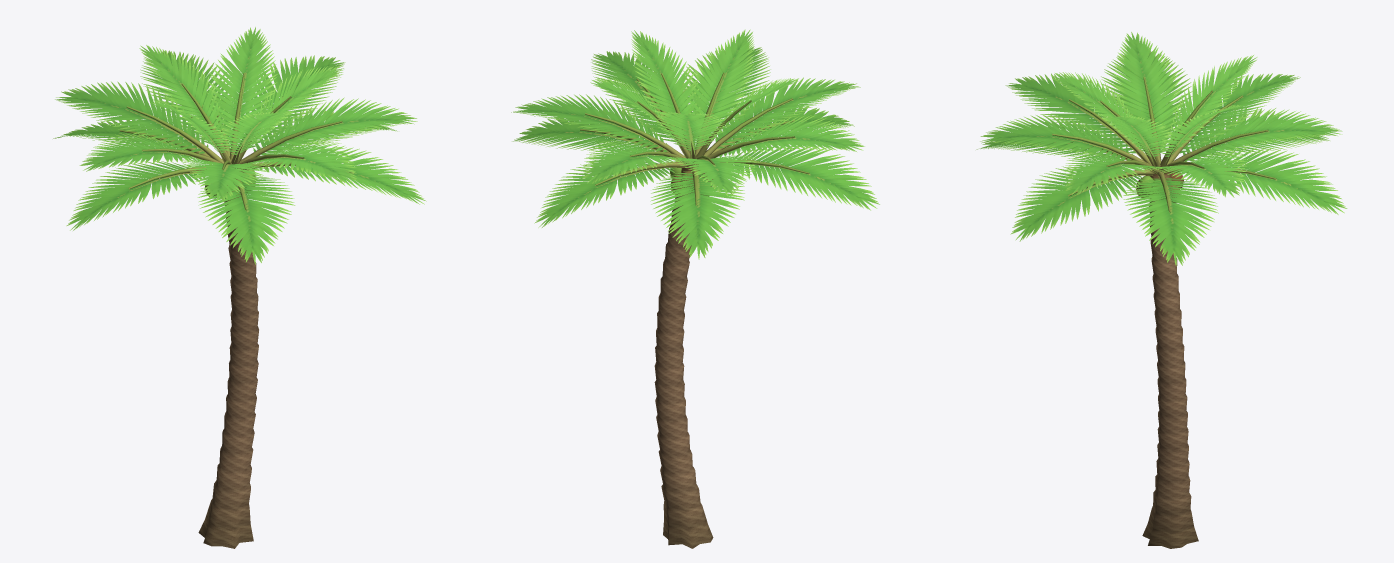
Rendered from palm-CKFHFXCQ.glb.
3 renders of one model, left to right at view 1: azimuth 30°, elevation 25°; view 2: azimuth 150°, elevation 25°; view 3: azimuth 270°, elevation 25°, orthographic.
Parts seen in each view (by area): view 1: canopy-foliage, PalmTrunk, PalmCoconuts; view 2: canopy-foliage, PalmTrunk, PalmCoconuts; view 3: canopy-foliage, PalmTrunk, PalmCoconuts.
Boxes of the visible parts, left/top/right/bottom form: canopy-foliage: left=53, top=27, right=426, bottom=264; PalmTrunk: left=198, top=171, right=258, bottom=548; PalmCoconuts: left=119, top=73, right=351, bottom=210; canopy-foliage: left=511, top=29, right=879, bottom=259; PalmTrunk: left=654, top=165, right=713, bottom=548; PalmCoconuts: left=580, top=72, right=809, bottom=205; canopy-foliage: left=976, top=32, right=1347, bottom=266; PalmTrunk: left=1142, top=172, right=1198, bottom=548; PalmCoconuts: left=1052, top=77, right=1276, bottom=212.
Size of the model in its own units: 4.39 by 5.3 by 4.4.
3 materials, 2 textured.
